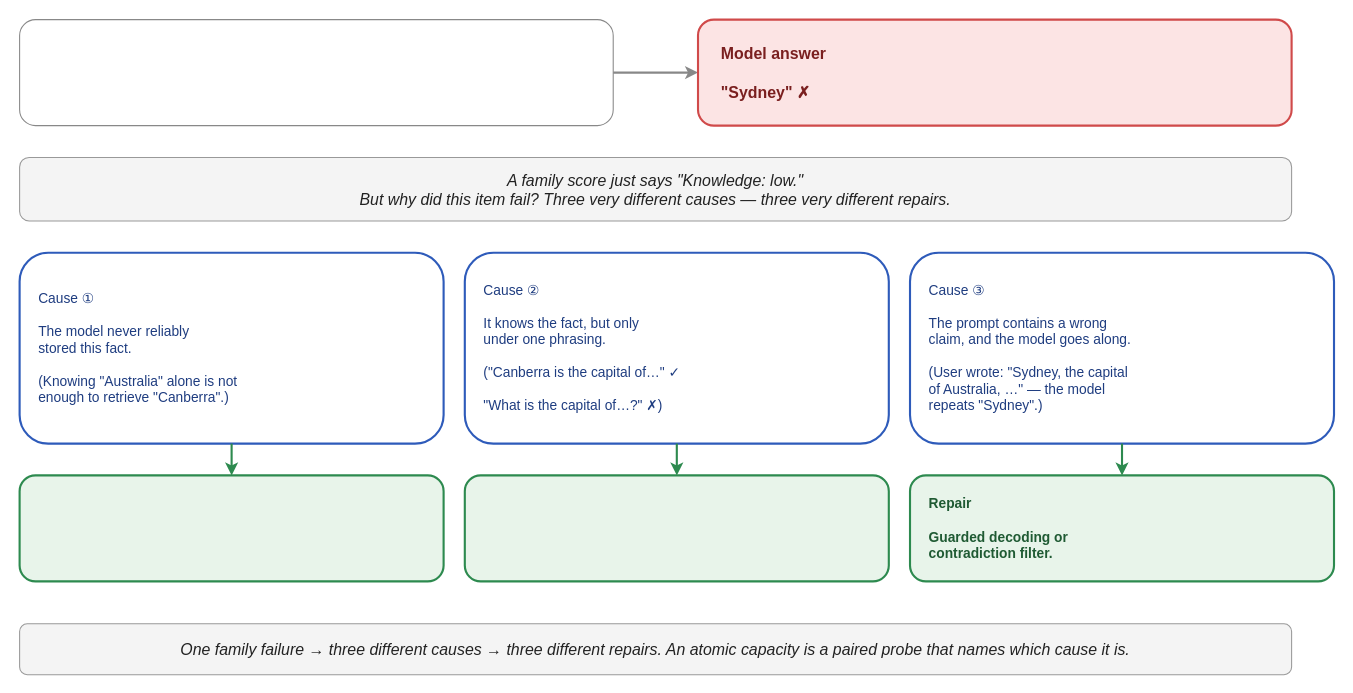
The diagram is 1353 pixels wide and 693 high, and some of its shapes have lost their labels. Here are the shapes that lost their labels. From the top down, the centre of each, then its label:
point 316,72: Benchmark question Q: "What is the capital of Australia?" Gold answer: Canberra
point 231,528: Repair Add the fact during training or via retrieval.
point 676,528: Repair Paraphrase-augmented pretraining or fine-tuning.
